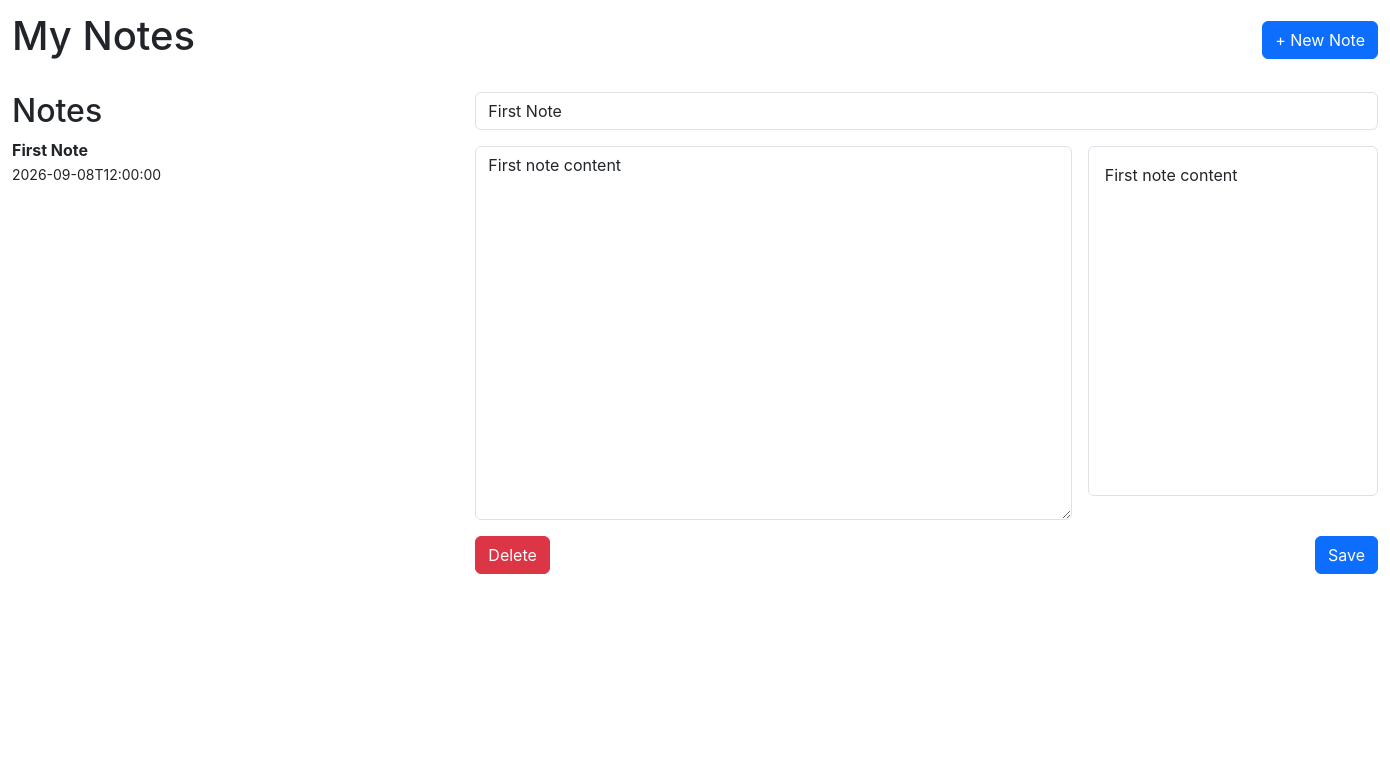
Scenario: Notes › sets selected note to null after deleting the only note
The image size is (1390, 780).
Expected: the field showing "First Note" is shown, [475,92,1378,130]
Click the button "Delete" at (513, 555), box [475,536,550,574]
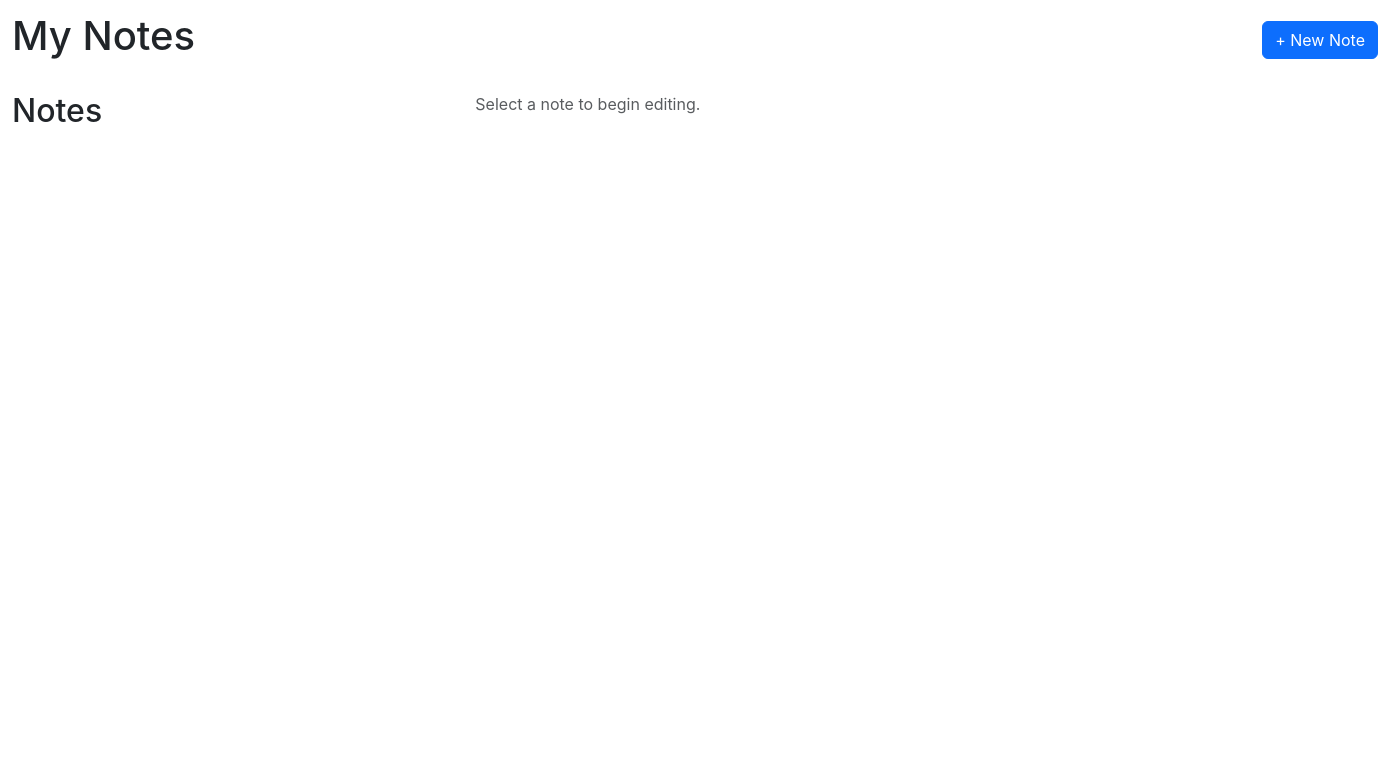
Now the text "Select a note to begin editing." is shown, box [475,94,700,114]
